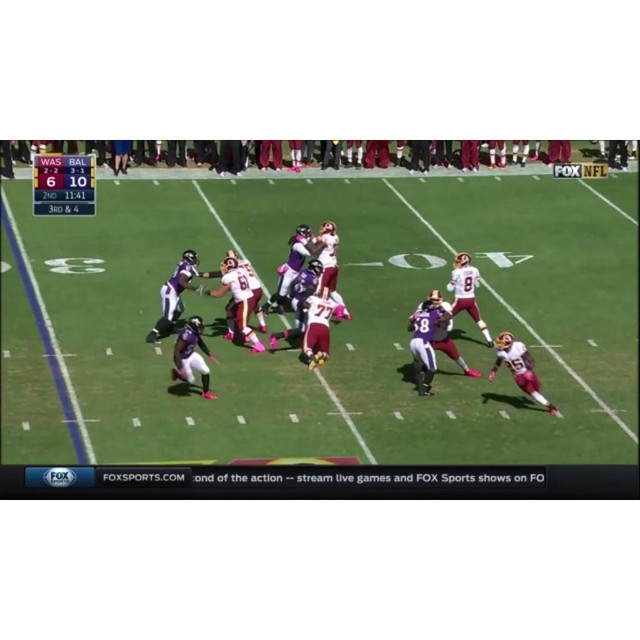american-football-player: (488, 331, 562, 419), (413, 291, 479, 380), (144, 250, 206, 344), (203, 260, 266, 352), (274, 259, 325, 350), (446, 252, 493, 348), (169, 316, 220, 399), (224, 250, 274, 334), (268, 226, 316, 312), (311, 222, 353, 320), (298, 287, 344, 372), (405, 303, 446, 397)
